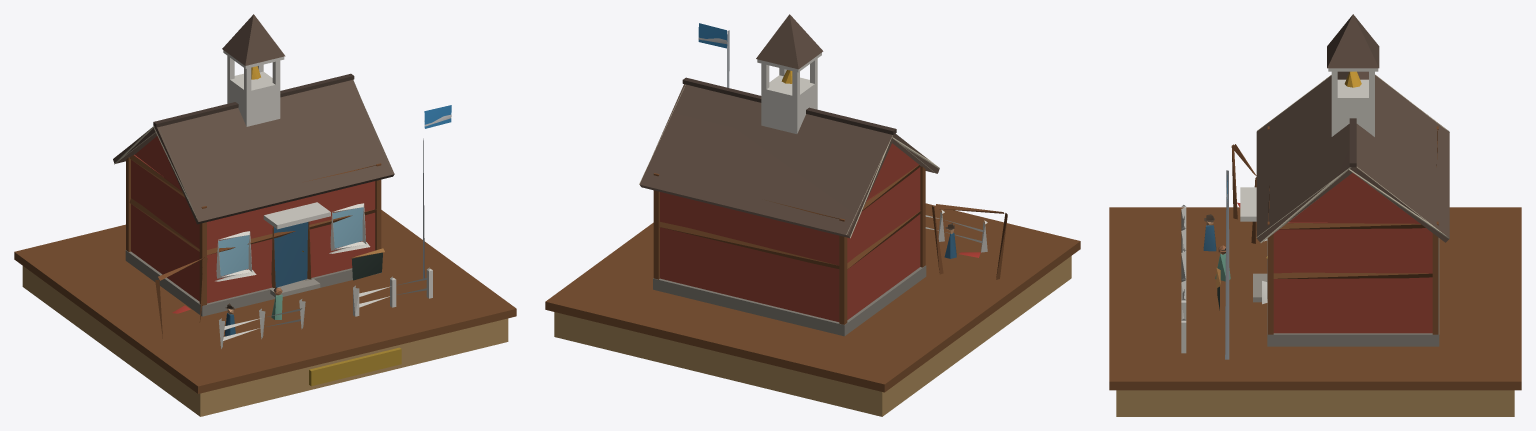
File: schoolhouse_souvenir.glb
3 renders of one model, left to right at view 1: azimuth 30°, elevation 25°; view 2: azimuth 150°, elevation 25°; view 3: azimuth 270°, elevation 25°, orthographic. The views are drawn at different scales.
Visible parts, largest first — view 1: decor-schoolhouse_souvenir; view 2: decor-schoolhouse_souvenir; view 3: decor-schoolhouse_souvenir.
Boxes of the visible parts, box(x1,y1,x2,y2) form: decor-schoolhouse_souvenir: box(14, 14, 516, 416); decor-schoolhouse_souvenir: box(545, 14, 1080, 416); decor-schoolhouse_souvenir: box(1109, 14, 1521, 416).
Size of the model in its own units: 1.76 by 1.51 by 1.76.
